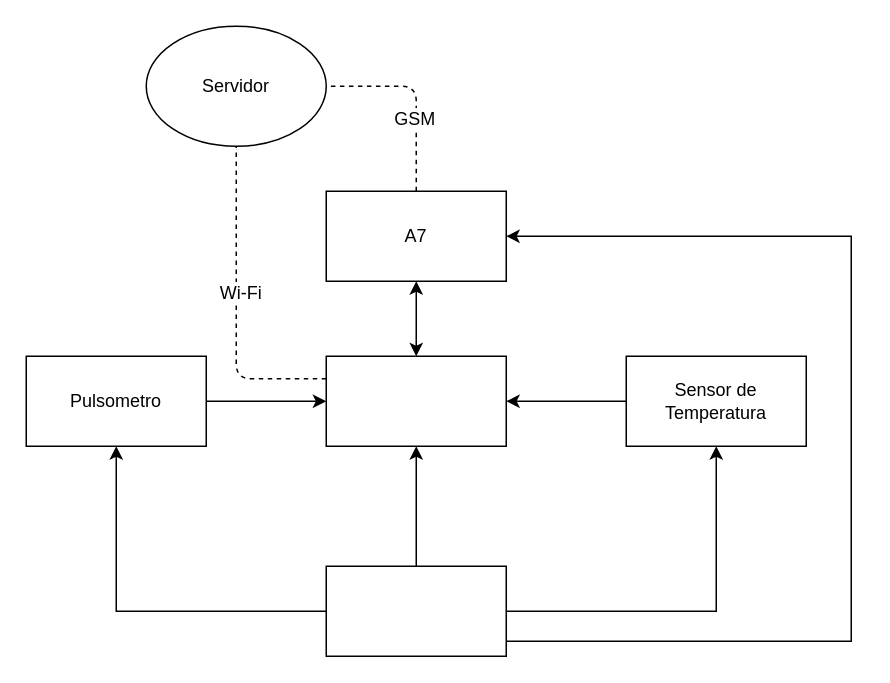
This 890x683 diagram has some shape labels left out. Here are the shapes that lost their labels. From the top down, the centre of each, then its label:
At [415,400]: "ESP82666".
At [415,610]: "Fuente de Energía".
